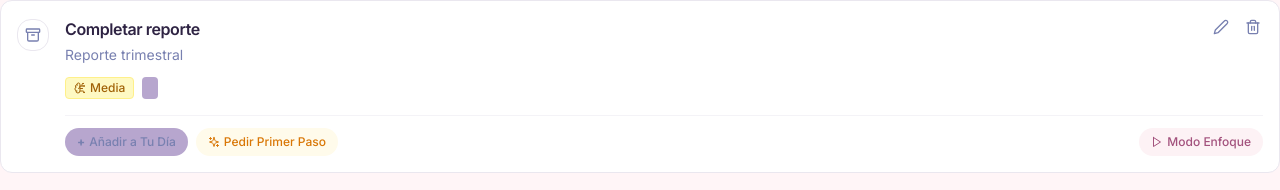
Test: TaskCard › shows first step when requested
Click the button "Pedir Primer Paso". click: {"x": 267, "y": 142}
box: [196,128,338,156]
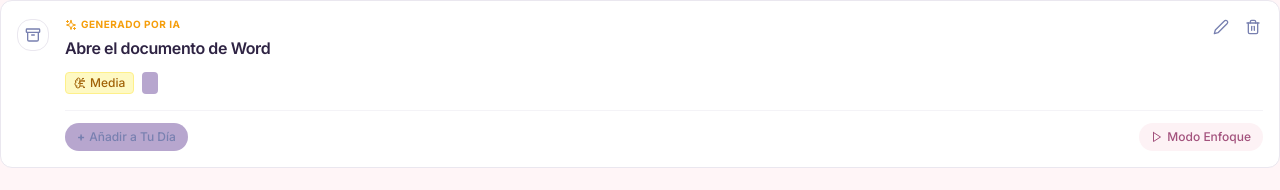
Now the heading "Abre el documento de Word" is shown, box [65,38,270,58]
